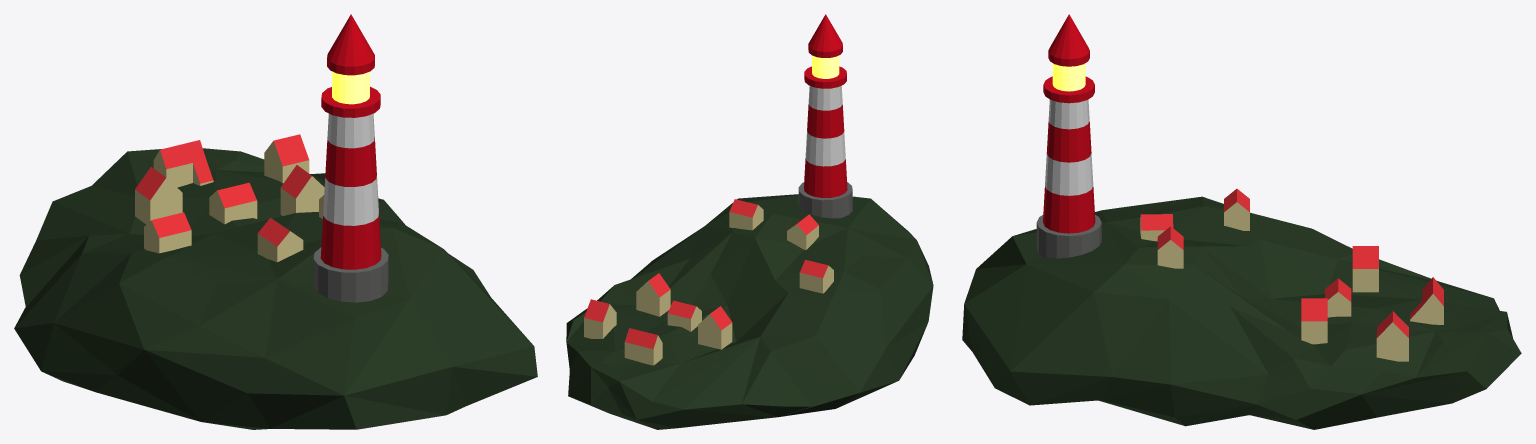
Rendered from Lighthouse.fbx.
3 renders of one model, left to right at view 1: azimuth 30°, elevation 25°; view 2: azimuth 150°, elevation 25°; view 3: azimuth 270°, elevation 25°, orthographic. The views are drawn at different scales.
Parts seen in each view (by area): view 1: rock, Lighthouse, Cubo.001, Cube.001, Cube, Cube.002, Cubo, Cubo.005, Cubo.004; view 2: rock, Lighthouse, Cubo.001, Cube.001, Cube, Cube.002, Cubo, Cubo.003, Cubo.005, Cubo.004; view 3: rock, Lighthouse, Cube.002, Cube.001, Cube, Cubo.001, Cubo.003, Cubo, Cubo.005, Cubo.004.
Boxes of the visible parts, left/top/right/bottom form: rock: left=14, top=148, right=537, bottom=429; Lighthouse: left=313, top=14, right=388, bottom=302; Cubo.001: left=153, top=140, right=213, bottom=187; Cube.001: left=135, top=166, right=182, bottom=224; Cube: left=280, top=165, right=324, bottom=215; Cube.002: left=264, top=134, right=309, bottom=183; Cubo: left=144, top=212, right=191, bottom=253; Cubo.005: left=209, top=182, right=257, bottom=224; Cubo.004: left=257, top=218, right=303, bottom=262; rock: left=566, top=194, right=933, bottom=429; Lighthouse: left=798, top=14, right=852, bottom=218; Cubo.001: left=624, top=328, right=662, bottom=365; Cube.001: left=698, top=306, right=732, bottom=349; Cube: left=636, top=273, right=670, bottom=316; Cube.002: left=584, top=299, right=616, bottom=338; Cubo: left=799, top=259, right=833, bottom=293; Cubo.003: left=729, top=199, right=763, bottom=230; Cubo.005: left=667, top=300, right=701, bottom=331; Cubo.004: left=787, top=214, right=818, bottom=249; rock: left=962, top=196, right=1521, bottom=429; Lighthouse: left=1036, top=14, right=1101, bottom=258; Cube.002: left=1376, top=311, right=1408, bottom=361; Cube.001: left=1352, top=246, right=1378, bottom=292; Cube: left=1301, top=298, right=1327, bottom=344; Cubo.001: left=1410, top=277, right=1443, bottom=324; Cubo.003: left=1157, top=226, right=1183, bottom=268; Cubo: left=1224, top=189, right=1249, bottom=230; Cubo.005: left=1325, top=278, right=1351, bottom=317; Cubo.004: left=1140, top=214, right=1173, bottom=241.
Size of what is drawn, in the model's own units: 1061 by 1077 by 1484.
